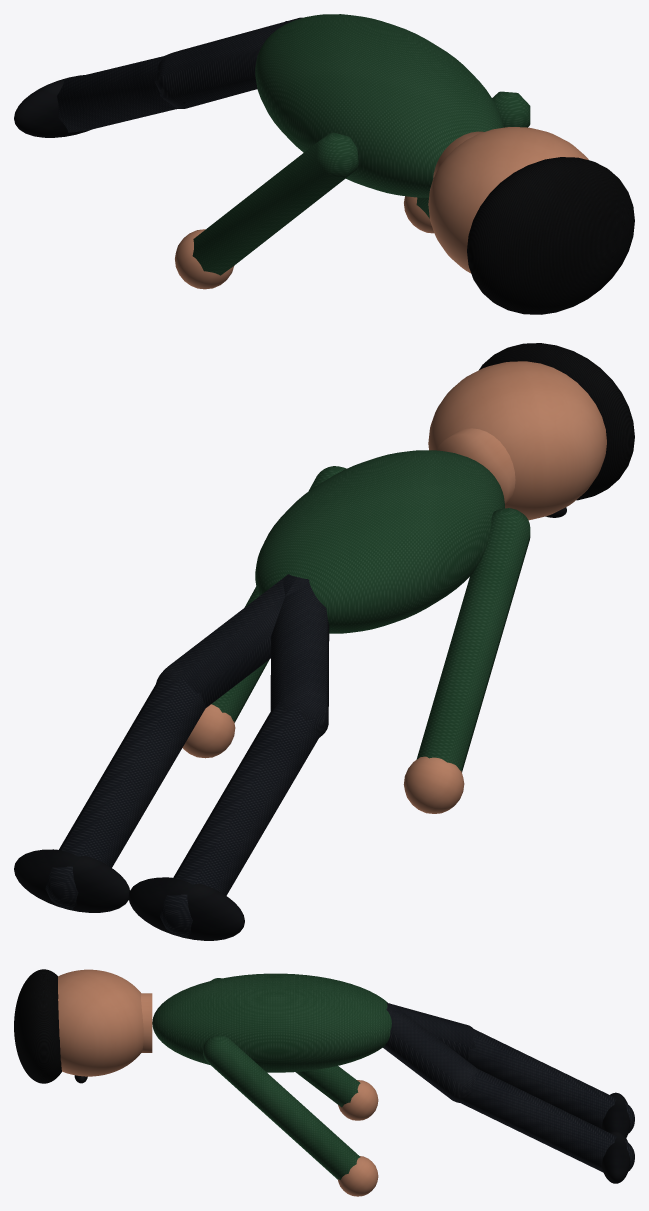
The model's file is CHAR_RECEPTIONIST_HERO_V4_001.glb.
The picture shows the model from 3 angles, top to bottom: view 1: azimuth 30°, elevation 25°; view 2: azimuth 150°, elevation 25°; view 3: azimuth 270°, elevation 25°; orthographic projection. The views are drawn at different scales.
Parts seen in each view (by area): view 1: char_receptionist_hero_v4_001_torso, char_receptionist_hero_v4_001_hair, char_receptionist_hero_v4_001_arm_l, char_receptionist_hero_v4_001_head, char_receptionist_hero_v4_001_leg_l, char_receptionist_hero_v4_001_shin_l, char_receptionist_hero_v4_001_shoe_l, char_receptionist_hero_v4_001_hand_l, char_receptionist_hero_v4_001_arm_r, char_receptionist_hero_v4_001_hand_r; view 2: char_receptionist_hero_v4_001_torso, char_receptionist_hero_v4_001_head, char_receptionist_hero_v4_001_shin_l, char_receptionist_hero_v4_001_shin_r, char_receptionist_hero_v4_001_arm_l, char_receptionist_hero_v4_001_leg_l, char_receptionist_hero_v4_001_leg_r, char_receptionist_hero_v4_001_hair, char_receptionist_hero_v4_001_shoe_l, char_receptionist_hero_v4_001_shoe_r, char_receptionist_hero_v4_001_hand_l, char_receptionist_hero_v4_001_neck (+2 smaller); view 3: char_receptionist_hero_v4_001_torso, char_receptionist_hero_v4_001_head, char_receptionist_hero_v4_001_arm_r, char_receptionist_hero_v4_001_shin_r, char_receptionist_hero_v4_001_shin_l, char_receptionist_hero_v4_001_hair, char_receptionist_hero_v4_001_leg_r, char_receptionist_hero_v4_001_leg_l, char_receptionist_hero_v4_001_arm_l, char_receptionist_hero_v4_001_hand_r, char_receptionist_hero_v4_001_shoe_r, char_receptionist_hero_v4_001_hand_l (+2 smaller).
Part boxes in pixels (<box>): char_receptionist_hero_v4_001_torso: <box>255,14,503,197</box>; char_receptionist_hero_v4_001_hair: <box>467,157,634,314</box>; char_receptionist_hero_v4_001_arm_l: <box>192,132,358,275</box>; char_receptionist_hero_v4_001_head: <box>428,127,588,273</box>; char_receptionist_hero_v4_001_leg_l: <box>155,17,302,108</box>; char_receptionist_hero_v4_001_shin_l: <box>57,54,185,132</box>; char_receptionist_hero_v4_001_shoe_l: <box>14,75,90,137</box>; char_receptionist_hero_v4_001_hand_l: <box>175,229,233,289</box>; char_receptionist_hero_v4_001_arm_r: <box>416,91,530,218</box>; char_receptionist_hero_v4_001_hand_r: <box>404,196,434,233</box>; char_receptionist_hero_v4_001_torso: <box>255,450,504,633</box>; char_receptionist_hero_v4_001_head: <box>428,361,606,520</box>; char_receptionist_hero_v4_001_shin_l: <box>160,698,328,937</box>; char_receptionist_hero_v4_001_shin_r: <box>45,674,205,909</box>; char_receptionist_hero_v4_001_arm_l: <box>416,508,530,772</box>; char_receptionist_hero_v4_001_leg_l: <box>270,575,329,737</box>; char_receptionist_hero_v4_001_leg_r: <box>156,574,309,707</box>; char_receptionist_hero_v4_001_hair: <box>479,343,634,500</box>; char_receptionist_hero_v4_001_shoe_l: <box>128,877,244,940</box>; char_receptionist_hero_v4_001_shoe_r: <box>14,849,129,912</box>; char_receptionist_hero_v4_001_hand_l: <box>403,756,464,813</box>; char_receptionist_hero_v4_001_neck: <box>437,428,515,504</box>; char_receptionist_hero_v4_001_torso: <box>152,973,391,1072</box>; char_receptionist_hero_v4_001_head: <box>58,969,143,1076</box>; char_receptionist_hero_v4_001_arm_r: <box>203,1035,360,1179</box>; char_receptionist_hero_v4_001_shin_r: <box>461,1068,634,1172</box>; char_receptionist_hero_v4_001_shin_l: <box>467,1026,634,1133</box>; char_receptionist_hero_v4_001_hair: <box>14,969,61,1083</box>; char_receptionist_hero_v4_001_leg_r: <box>383,1003,479,1103</box>; char_receptionist_hero_v4_001_leg_l: <box>386,1002,479,1060</box>; char_receptionist_hero_v4_001_arm_l: <box>211,978,360,1107</box>; char_receptionist_hero_v4_001_hand_r: <box>338,1156,378,1196</box>; char_receptionist_hero_v4_001_shoe_r: <box>602,1130,630,1183</box>; char_receptionist_hero_v4_001_hand_l: <box>338,1080,378,1120</box>.
Bounding box in the file's own units: 0.59 × 0.5348 × 1.66.
5 materials, 5 textured.
